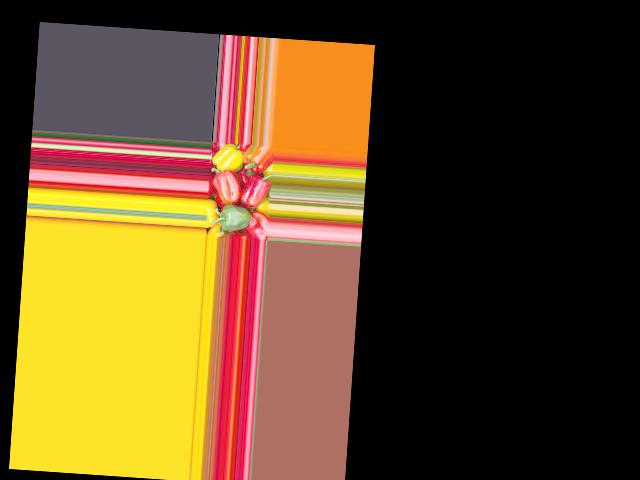bell_pepper: (210, 142, 246, 174)
